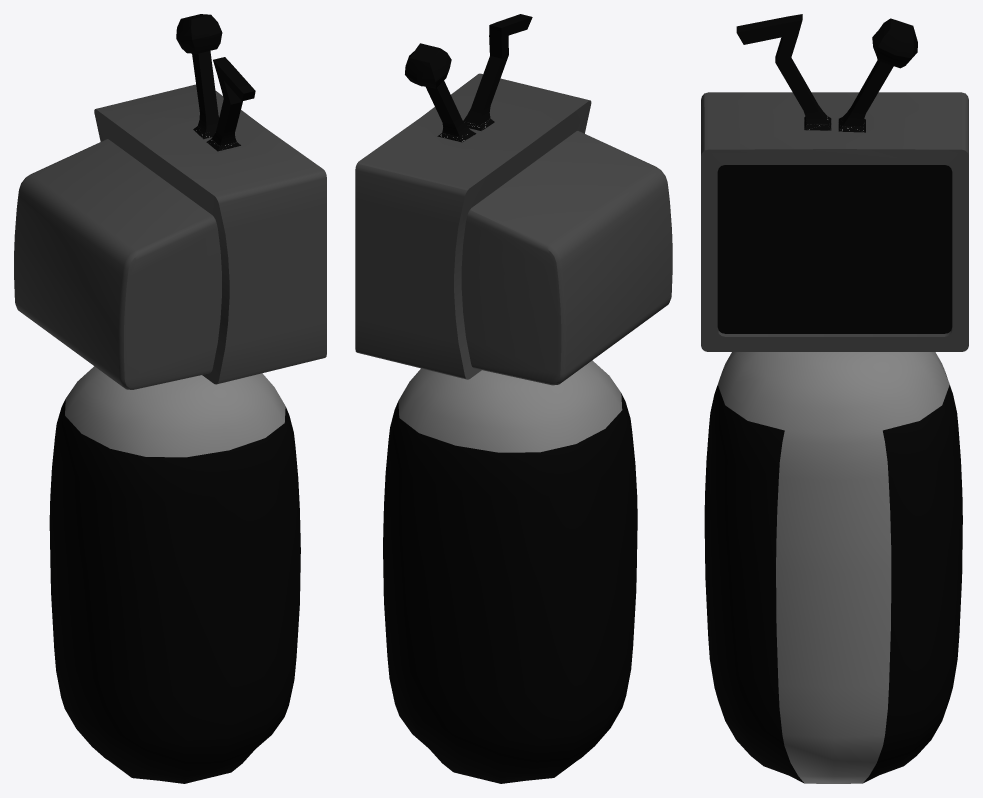
The model's file is CodeBulletPlayer.fbx.
The picture shows the model from 3 angles, left to right: view 1: azimuth 30°, elevation 25°; view 2: azimuth 150°, elevation 25°; view 3: azimuth 270°, elevation 25°; orthographic projection. The views are drawn at different scales.
Parts seen in each view (by area): view 1: CB_Body, CB_Head, CD_AntennaLeft, CD_AntennaRight; view 2: CB_Body, CB_Head, CD_AntennaLeft, CD_AntennaRight; view 3: CB_Body, CB_Head, CD_AntennaLeft, CD_AntennaRight.
Part boxes in pixels (x1=…): CB_Body: x1=49, y1=366, x2=300, y2=783; CB_Head: x1=14, y1=84, x2=326, y2=389; CD_AntennaLeft: x1=176, y1=14, x2=222, y2=139; CD_AntennaRight: x1=206, y1=57, x2=255, y2=151; CB_Body: x1=383, y1=360, x2=637, y2=783; CB_Head: x1=355, y1=73, x2=672, y2=385; CD_AntennaLeft: x1=405, y1=43, x2=476, y2=142; CD_AntennaRight: x1=463, y1=14, x2=532, y2=130; CB_Body: x1=704, y1=352, x2=962, y2=783; CB_Head: x1=701, y1=92, x2=968, y2=351; CD_AntennaLeft: x1=838, y1=18, x2=917, y2=132; CD_AntennaRight: x1=736, y1=14, x2=831, y2=130.
Bounding box in the file's own units: 33.04 × 106 × 33.6.
1 material, 1 textured.
